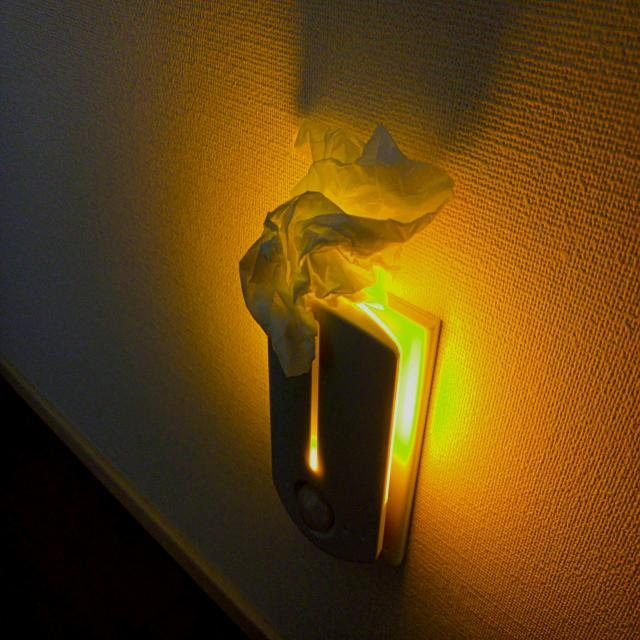Paper: (228, 101, 440, 361)
